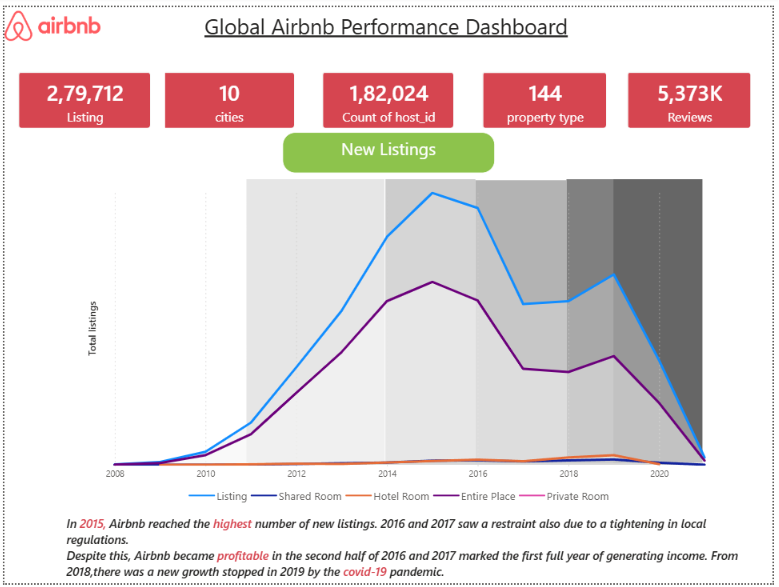

Layout of this report page (visuals, bound fields, positions):
{"tool":"powerbi","page":{"name":"Overview","canvas":[960,720],"ordinal":0},"visuals":[{"type":"textbox","box":[244.6,0,470.8,84.4],"z":0},{"type":"image","box":[0,3.8,120,38.8],"z":1000},{"type":"cardVisual","fields":{"Data":["Count(Listings.city)"]},"box":[179.8,63.6,200.5,105.2],"z":2000},{"type":"cardVisual","fields":{"Data":["Count(Listings.listing_id)"]},"box":[0,63.6,200.5,105.2],"z":3000},{"type":"cardVisual","fields":{"Data":["Count(Listings.host_id)"]},"box":[380.3,63.6,199.3,105.2],"z":4000},{"type":"cardVisual","fields":{"Data":["Count(Listings.property_type)"]},"box":[579.6,63.6,190.8,105.2],"z":5000},{"type":"cardVisual","fields":{"Data":["Count(Reviews.review_id)"]},"box":[761.8,63.6,189.5,105.2],"z":6000},{"type":"textbox","box":[347.2,156.7,265.6,51.1],"z":8000},{"type":"textbox","box":[72.1,629.8,871.9,90.5],"z":9000},{"type":"shape","box":[100.3,215.2,211.6,354.6],"z":10000},{"type":"shape","box":[303,215.2,172.4,354.6],"z":11000},{"type":"shape","box":[475.7,215.2,112.5,354.6],"z":12000},{"type":"shape","box":[588.6,215.8,113.8,353.8],"z":13000},{"type":"shape","box":[701.9,215.2,68.5,354.6],"z":14000},{"type":"shape","box":[761.8,215.2,111.3,354.6],"z":15000},{"type":"lineChart","fields":{"Category":["Listings.host_since.Variation.Date Hierarchy.Year"],"Y":["CountNonNull(Listings.listing_id)","Private room.Shared Room","Private room.Hotel Room","Private room.Entire Place","Private room.Private Room"]},"box":[100.3,217.7,792.4,412.1],"z":15500}]}

Visuals, with their boxes in screenshot pixels (x1, y1, x2, y2), scaled from the page's 960x720 canvas onto the 779x587 screenshot:
textbox: (x1=198, y1=0, x2=581, y2=69)
image: (x1=0, y1=3, x2=97, y2=35)
cardVisual - Count(Listings.city): (x1=146, y1=52, x2=309, y2=138)
cardVisual - Count(Listings.listing_id): (x1=0, y1=52, x2=163, y2=138)
cardVisual - Count(Listings.host_id): (x1=309, y1=52, x2=470, y2=138)
cardVisual - Count(Listings.property_type): (x1=470, y1=52, x2=625, y2=138)
cardVisual - Count(Reviews.review_id): (x1=618, y1=52, x2=772, y2=138)
textbox: (x1=282, y1=128, x2=497, y2=169)
textbox: (x1=59, y1=513, x2=766, y2=586)
shape: (x1=81, y1=175, x2=253, y2=465)
shape: (x1=246, y1=175, x2=386, y2=465)
shape: (x1=386, y1=175, x2=477, y2=465)
shape: (x1=478, y1=176, x2=570, y2=464)
shape: (x1=570, y1=175, x2=625, y2=465)
shape: (x1=618, y1=175, x2=708, y2=465)
lineChart - Listings.host_since.Variation.Date Hierarchy.Year x CountNonNull(Listings.listing_id): (x1=81, y1=177, x2=724, y2=513)
